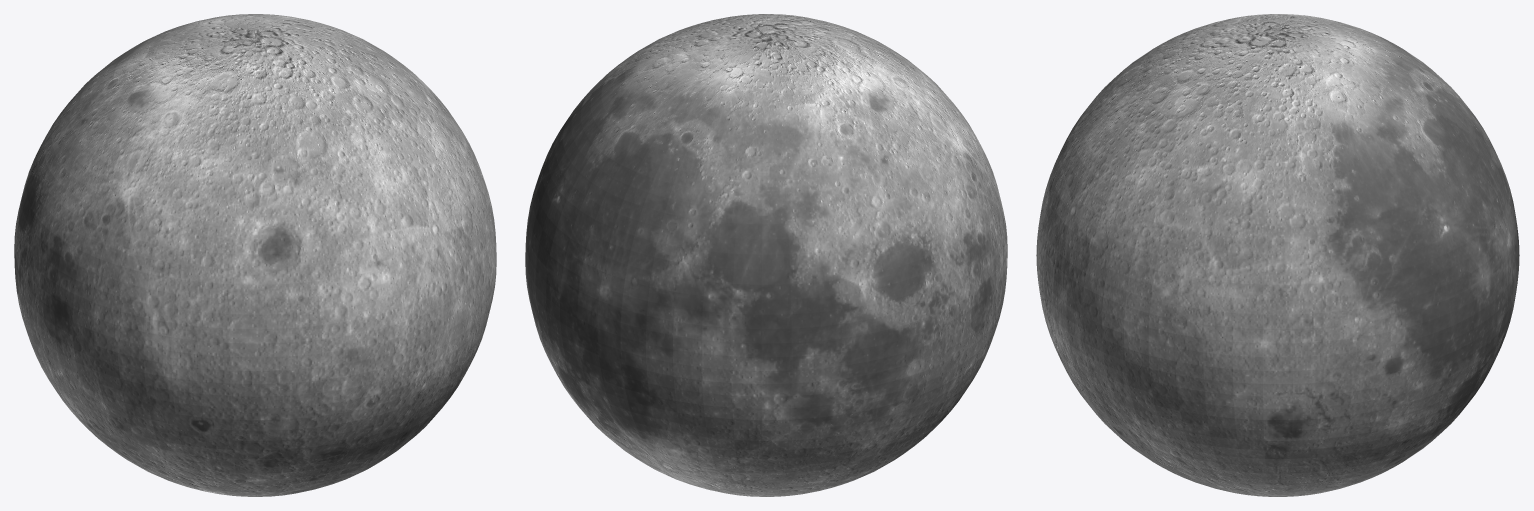
The model's file is mesec.obj.
The picture shows the model from 3 angles, left to right: view 1: azimuth 30°, elevation 25°; view 2: azimuth 150°, elevation 25°; view 3: azimuth 270°, elevation 25°; orthographic projection.
Visible parts, largest first — view 1: Object_TexMap_0; view 2: Object_TexMap_0; view 3: Object_TexMap_0.
Boxes of the visible parts, <box> form: Object_TexMap_0: <box>14,14,496,496</box>; Object_TexMap_0: <box>525,14,1007,496</box>; Object_TexMap_0: <box>1036,14,1519,496</box>.
Bounding box in the file's own units: 2.5 × 2.5 × 2.5.
Materials: 1 (1 with a texture image).
